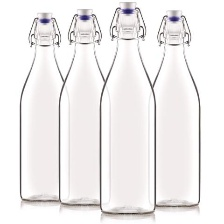bottle: (146, 1, 212, 215), (96, 1, 156, 218), (55, 4, 113, 208), (17, 8, 69, 204)
